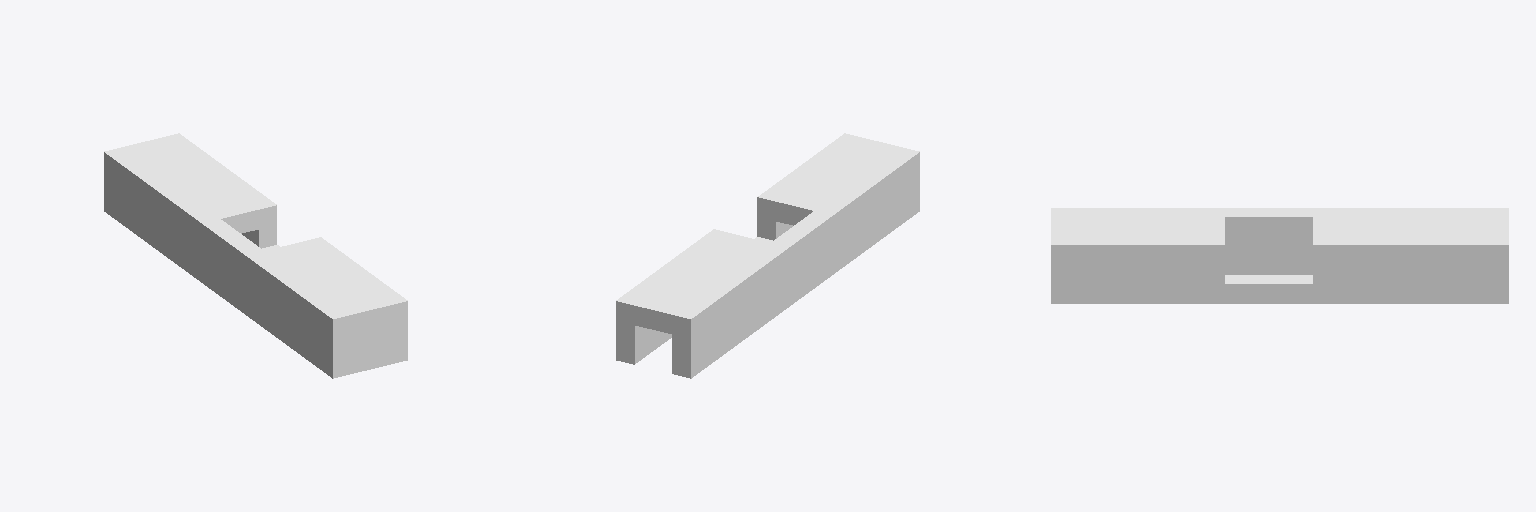
File: slide.obj
3 views of the same model, side by side, from view 1: azimuth 30°, elevation 25°; view 2: azimuth 150°, elevation 25°; view 3: azimuth 270°, elevation 25° (orthographic).
Parts seen in each view (by area): view 1: slide; view 2: slide; view 3: slide.
Boxes of the visible parts, <box> form: slide: <box>104,133,407,378</box>; slide: <box>616,133,919,378</box>; slide: <box>1051,208,1508,303</box>.
Size of the model in its own units: 4 by 3 by 21.